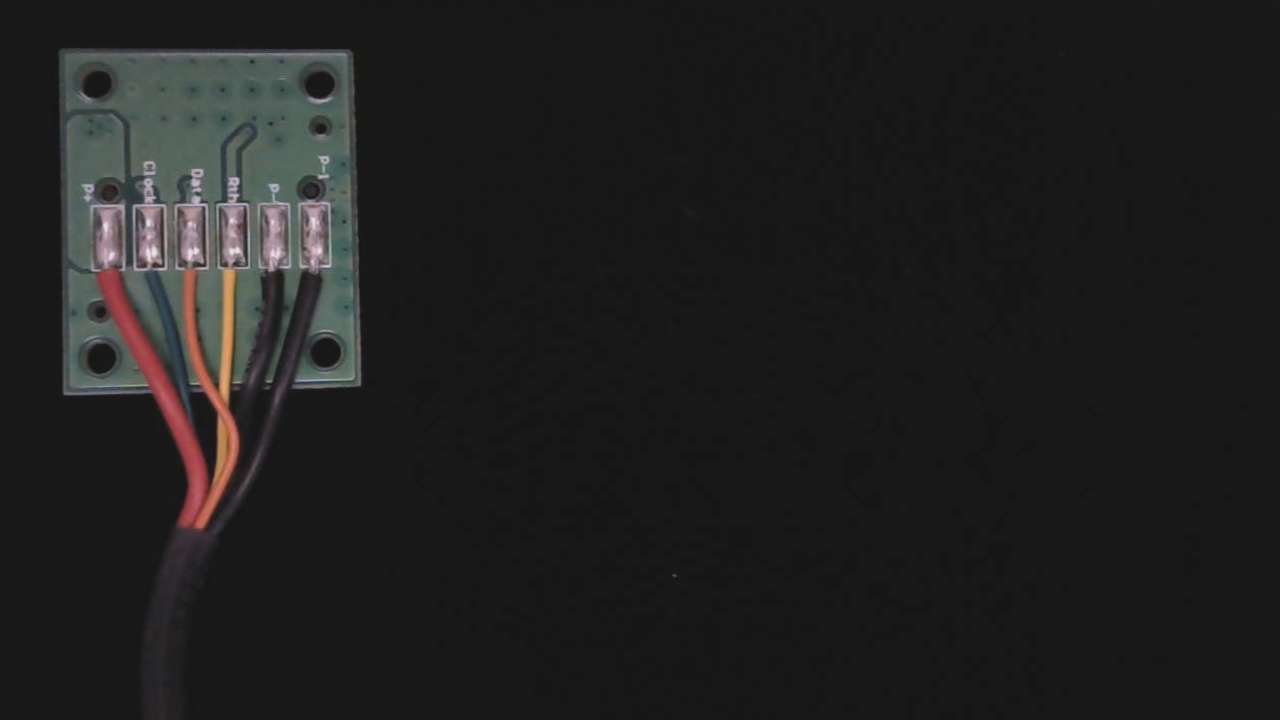Black: (257, 245, 294, 320)
Black1: (303, 244, 339, 312)
Green: (127, 244, 165, 316)
Orange: (174, 246, 209, 320)
Red: (84, 252, 122, 324)
Yellow: (215, 243, 253, 319)
